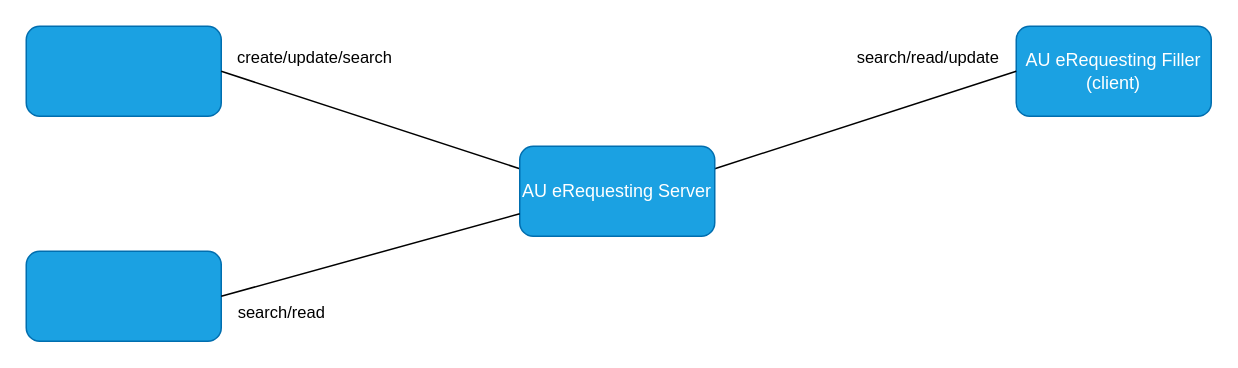
Image size: 1238x368. Some labels were removed from this diagram. Here are the shapes that lost their labels. From the top down, the centre of each, then its label:
At (123,70): "AU eRequesting Placer (client)".
At (123,295): "AU eRequesting Patient (client)".
